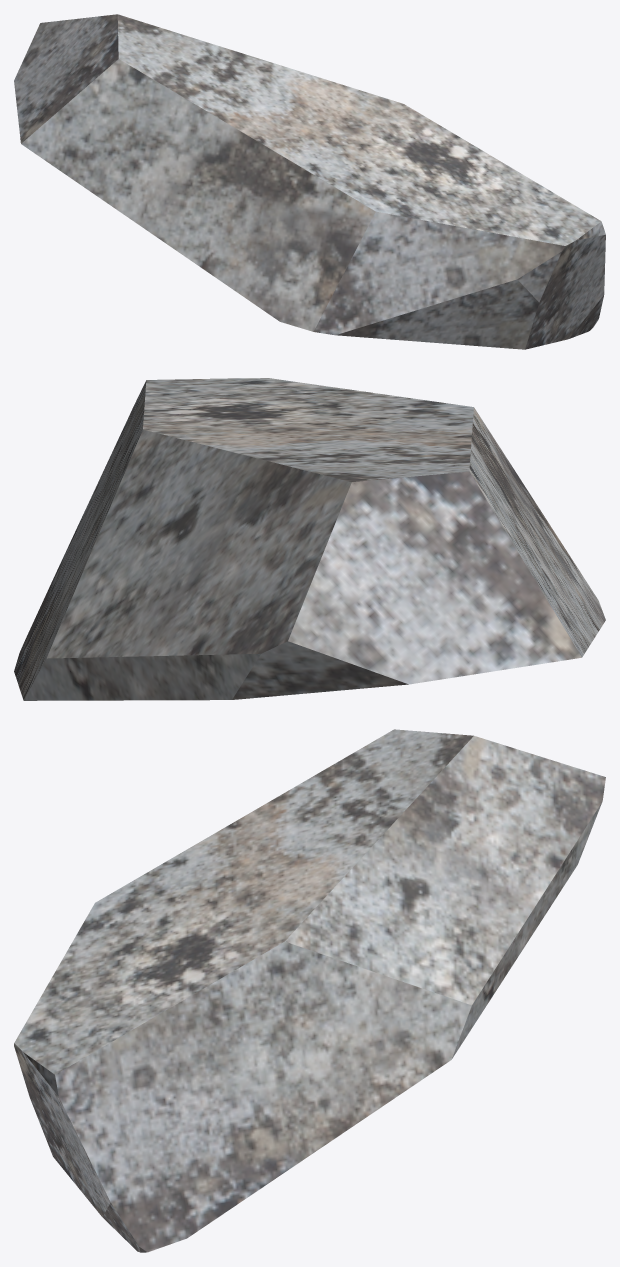
Rendered from Asteroid_Large_001_02_009_03_029.fbx.
The picture shows the model from 3 angles, top to bottom: view 1: azimuth 30°, elevation 25°; view 2: azimuth 150°, elevation 25°; view 3: azimuth 270°, elevation 25°; orthographic projection. The views are drawn at different scales.
Parts seen in each view (by area): view 1: Asteroid_Large_001_02_009_03_029; view 2: Asteroid_Large_001_02_009_03_029; view 3: Asteroid_Large_001_02_009_03_029.
Boxes of the visible parts, left/top/right/bottom form: Asteroid_Large_001_02_009_03_029: left=14, top=14, right=605, bottom=349; Asteroid_Large_001_02_009_03_029: left=14, top=378, right=605, bottom=700; Asteroid_Large_001_02_009_03_029: left=14, top=729, right=605, bottom=1252.
Bounding box in the file's own units: 10.69 × 6.55 × 10.55.
